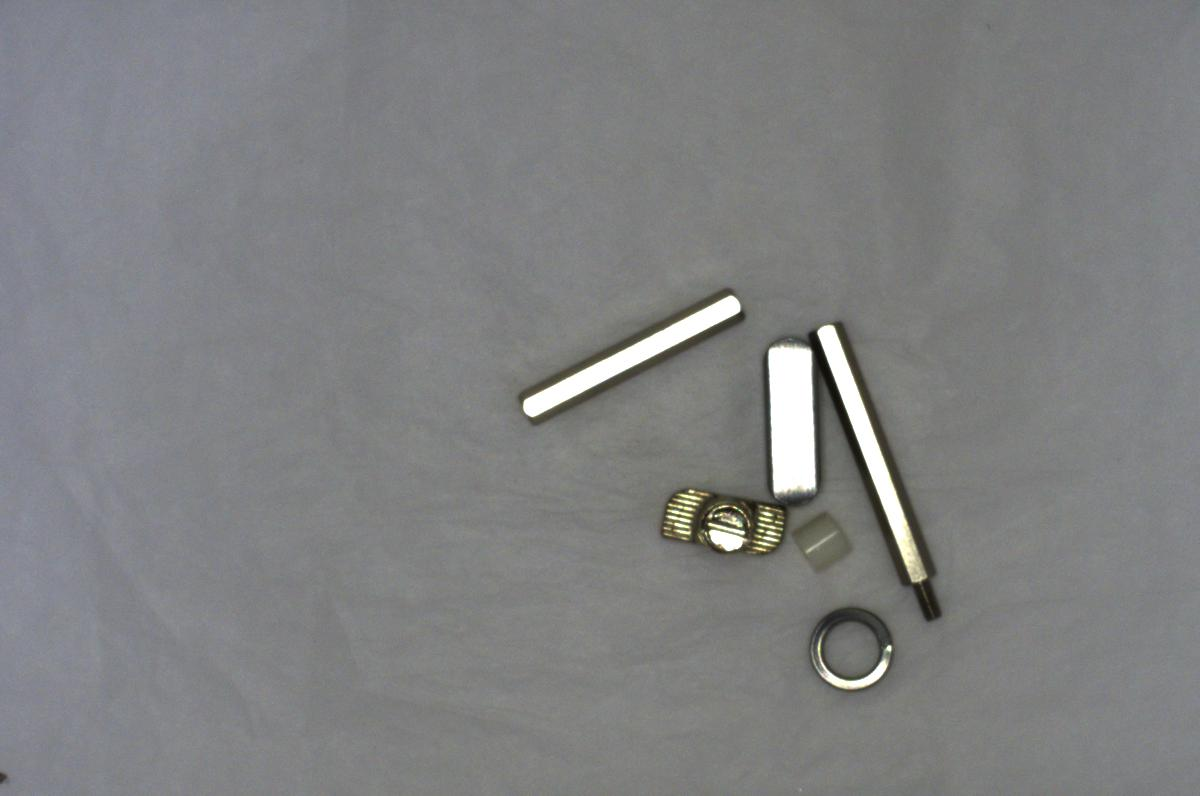Double hexagonal column: (520, 280, 744, 426)
Hexagonal steel column: (817, 313, 947, 628)
Keybar: (751, 330, 823, 515)
Plastic cushion pillar: (787, 505, 855, 580)
Spring washer: (803, 598, 898, 698)
T-shaped screw: (653, 478, 798, 562)
